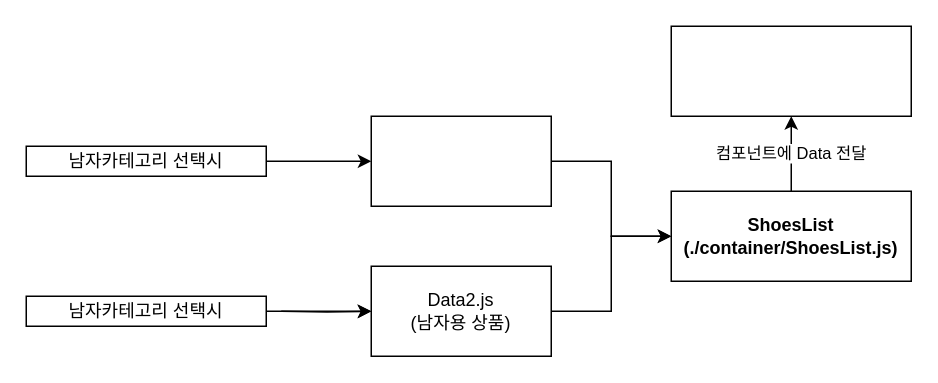
The diagram is 938 pixels wide and 383 high, and some of its shapes have lost their labels. The centre of each missing label's shape, as x and y in pixels:
"Data.js (남자용 상품)" belongs at pixel 460 160.
"ShoesItem ./component/ShoesItem.js" belongs at pixel 790 70.
